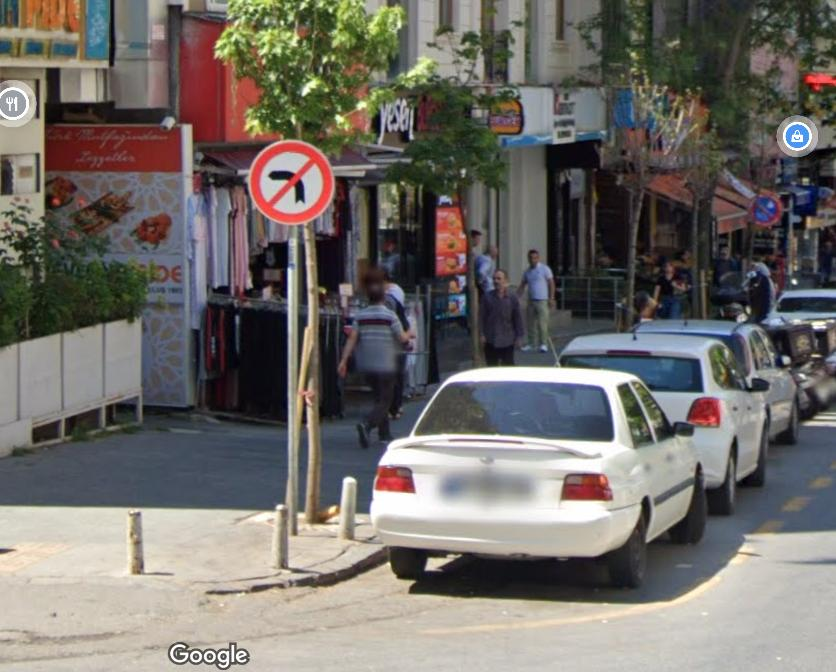leftturnsareforbidden: (250, 142, 336, 222)
